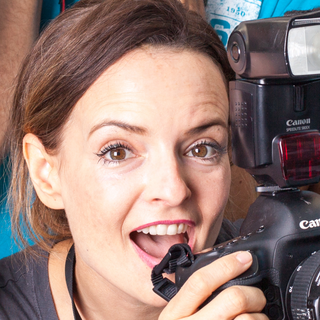eye: (94, 141, 140, 165), (183, 138, 224, 164)
